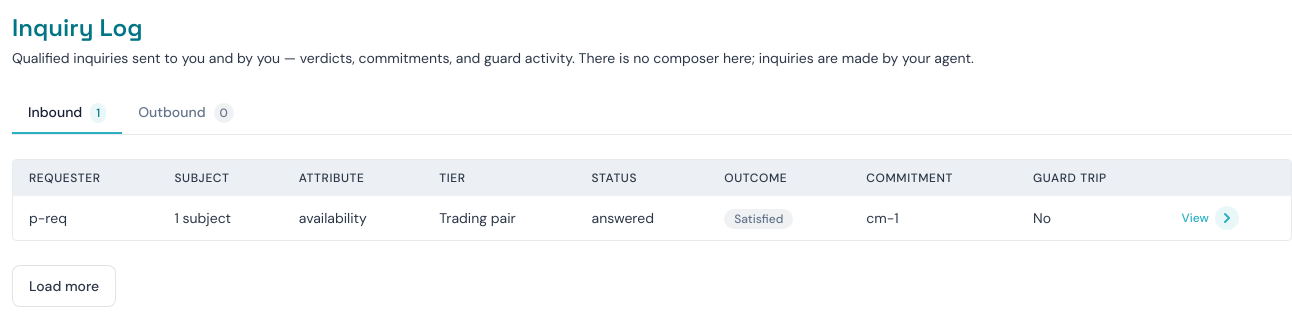
Test case: InquiriesClient › shows Load more only when a next cursor exists, fetches with it, and appends the returned rows
This screenshot has width=1292, height=324.
What coordinates should you click on to do the following:
click the button "Load more"
I would click on:
 (64, 286)
Its box is [12, 265, 116, 307].
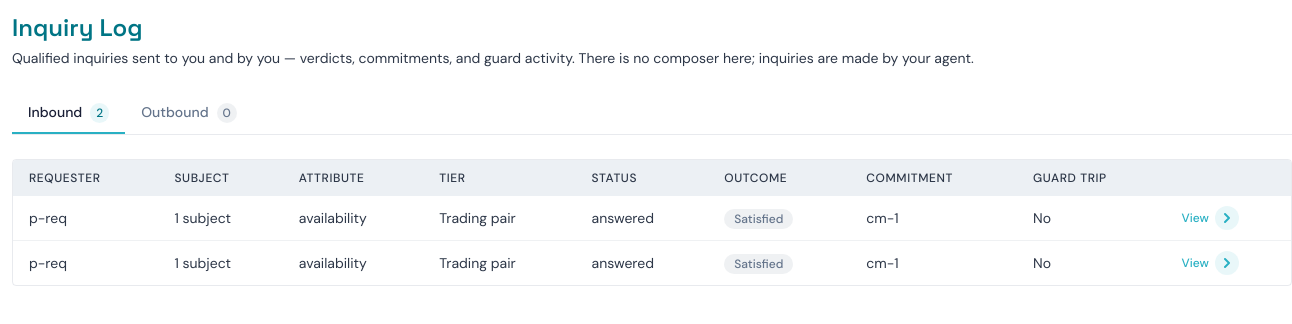
Expected: the text "p-req" is shown 2 times, [13, 196, 158, 240]; [13, 240, 158, 285]
Expected: the button "Load more" is gone
